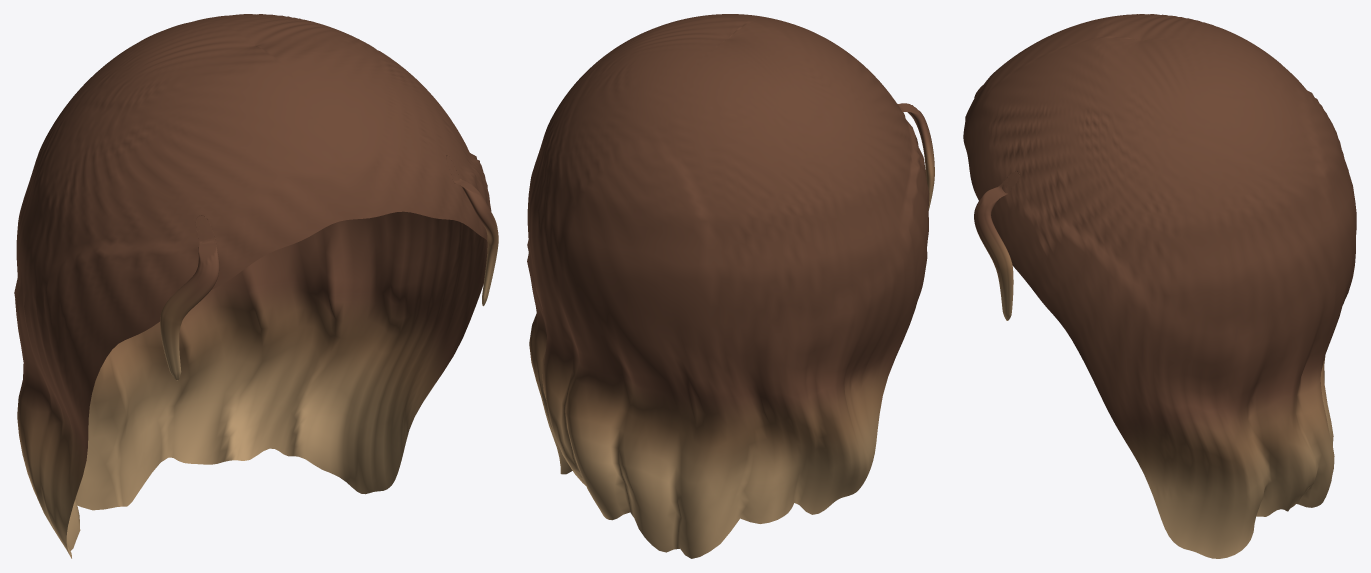
Rendered from space-buns-cap-ombre.glb.
3 views of the same model, side by side, from view 1: azimuth 30°, elevation 25°; view 2: azimuth 150°, elevation 25°; view 3: azimuth 270°, elevation 25° (orthographic). The views are drawn at different scales.
Parts seen in each view (by area): view 1: 226 hair / Hair / chestnut226.002; view 2: 226 hair / Hair / chestnut226.002; view 3: 226 hair / Hair / chestnut226.002.
Part boxes in pixels (x1,y1,x2,y2): 226 hair / Hair / chestnut226.002: (14, 14, 498, 558); 226 hair / Hair / chestnut226.002: (527, 14, 934, 558); 226 hair / Hair / chestnut226.002: (963, 14, 1356, 558).
Size of the model in its own units: 0.8048 by 0.965 by 0.7316.
1 material, 1 textured.
